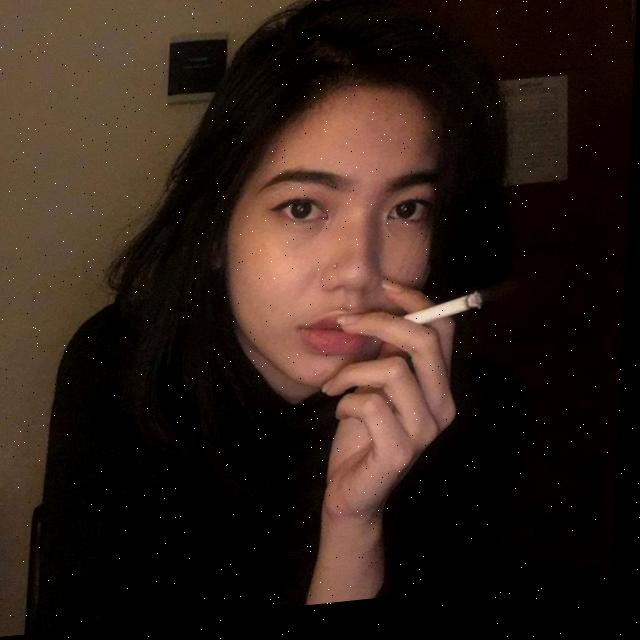cigarette: (403, 300, 487, 337)
